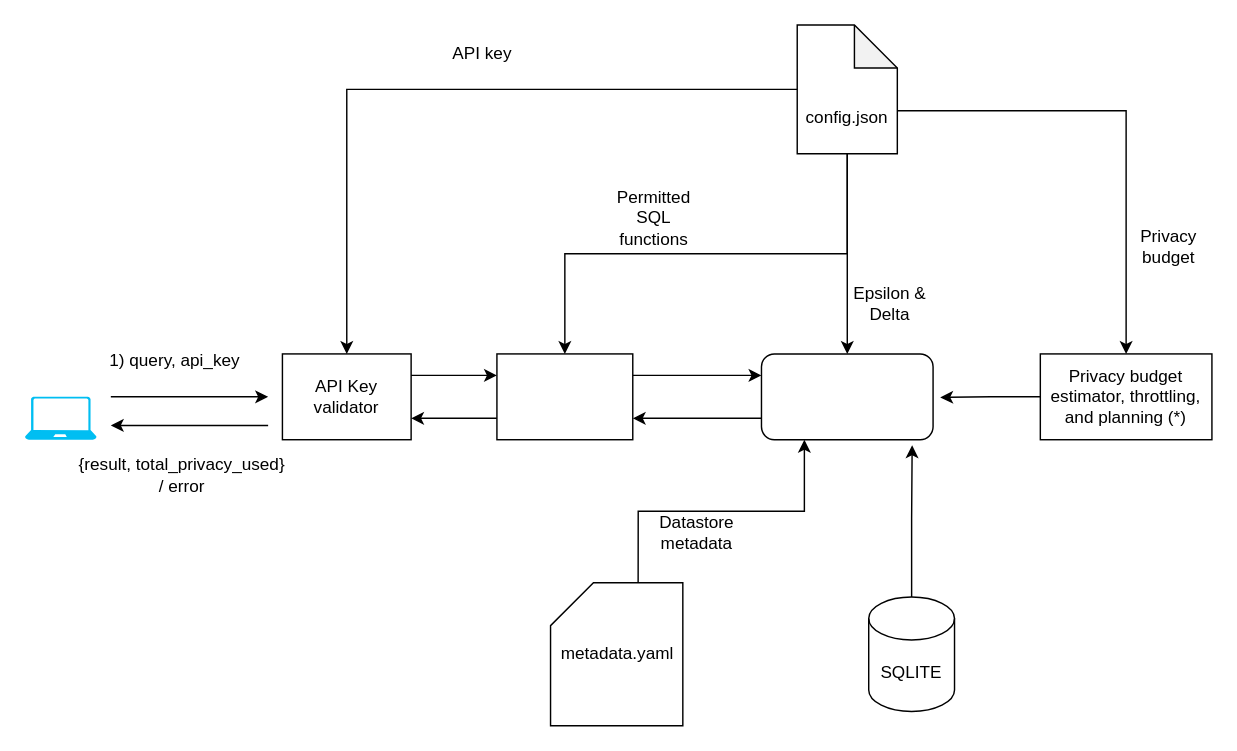
Some shapes in this 1237 by 751 pixel diagram are drawn without their labels. The shapes that lost their labels are listed below. From the top down, each one's centre as x and y in pixels, then its label:
At (564,396): "Query validator".
At (846,396): "PrivateReader / PrivateQueryRunner".
